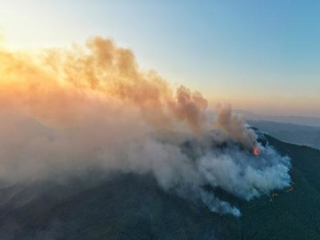fire: (251, 146, 259, 156)
smoke: (140, 85, 301, 215)
